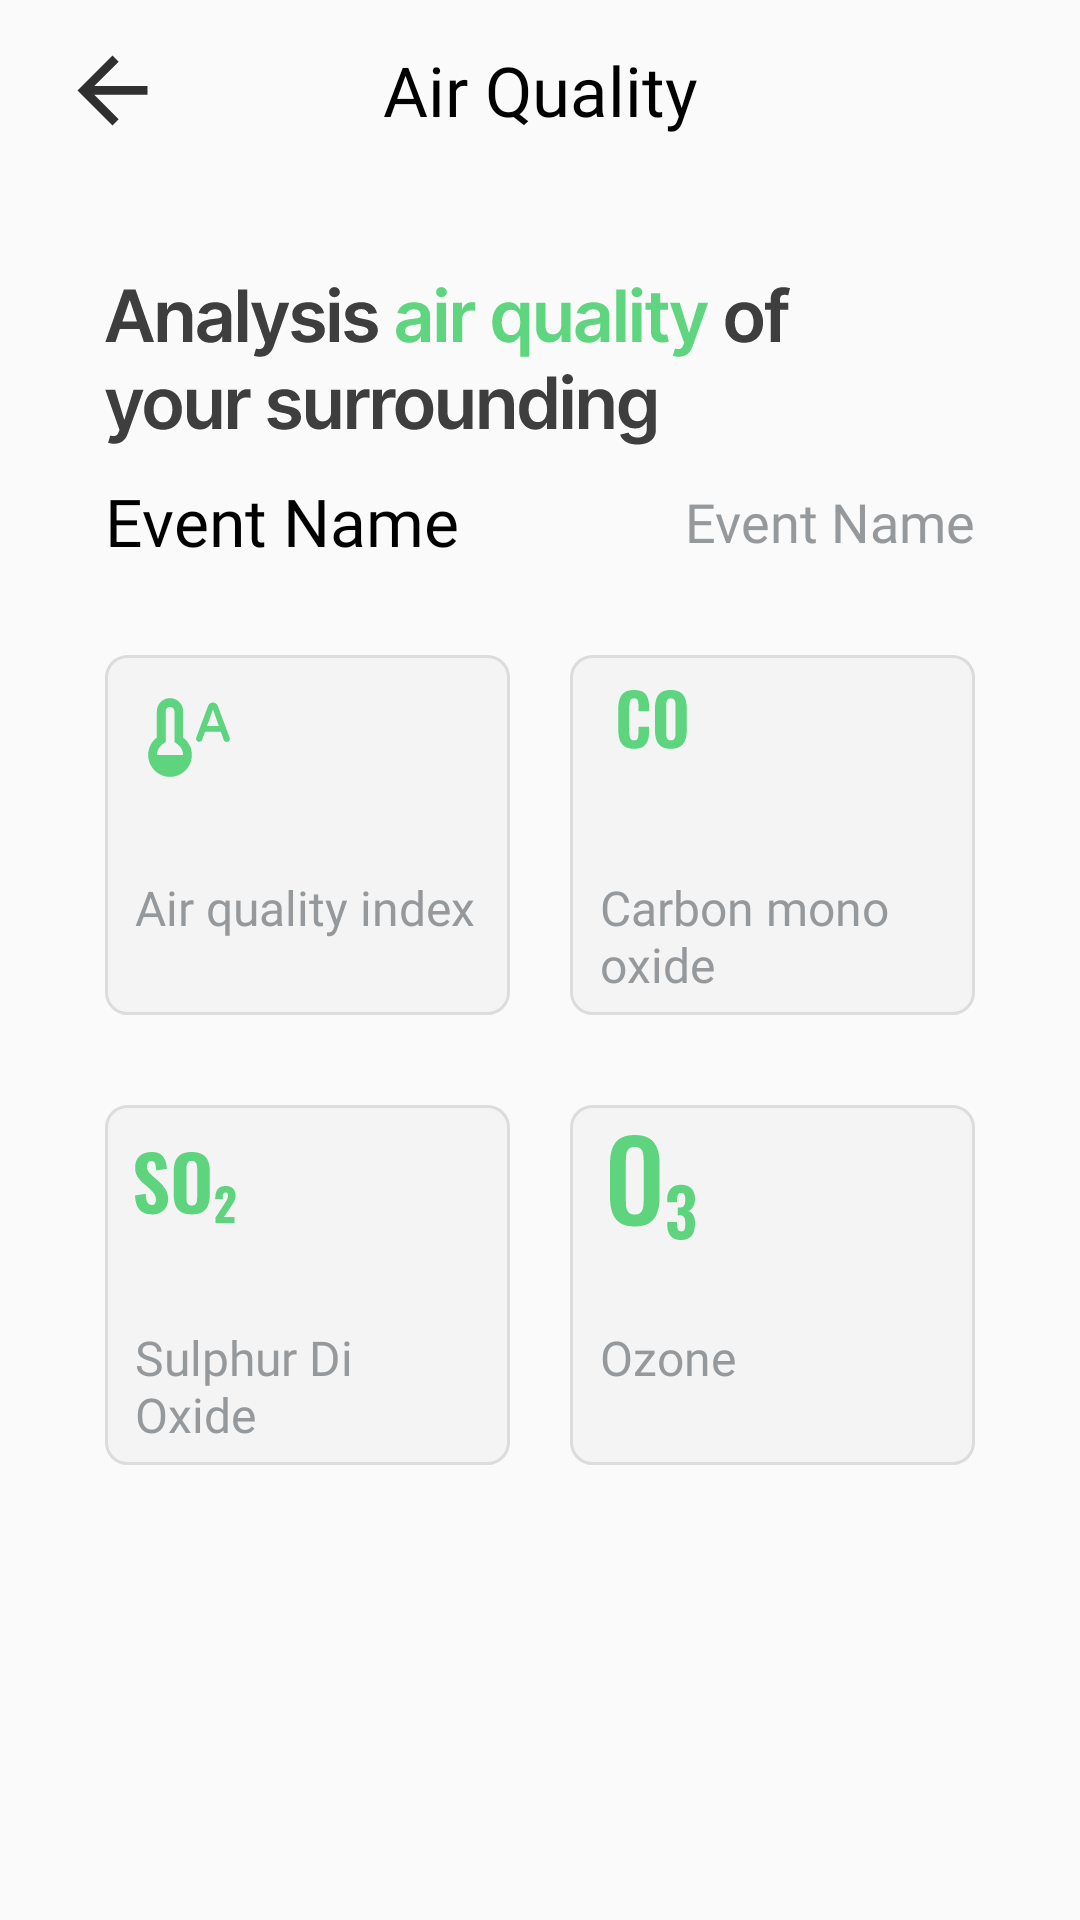

Icons on this 1080*1920 Android screen, each with the point to tap as [x,y]:
meter: [189,737]
